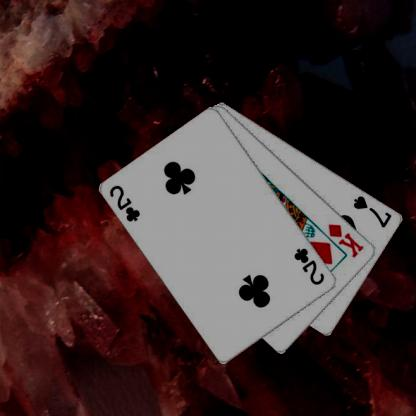2C: (106, 182, 142, 223), (292, 245, 326, 286)
7S: (351, 193, 394, 229)
KD: (326, 221, 366, 259)
